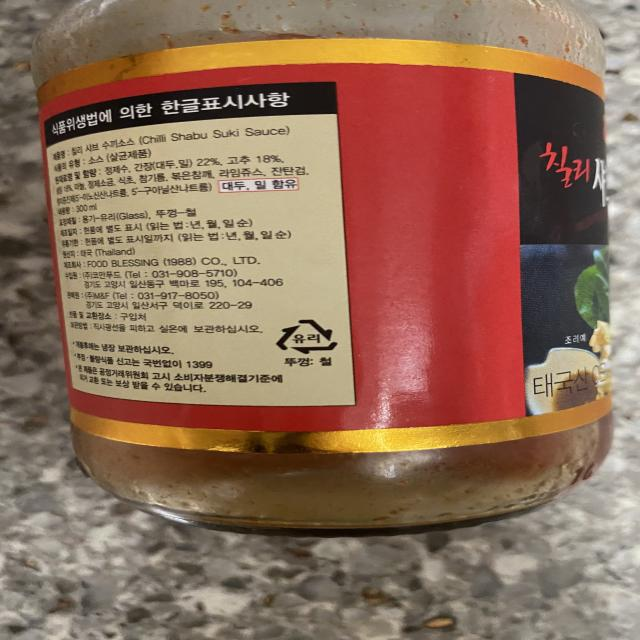Glass: (272, 316, 342, 356)
